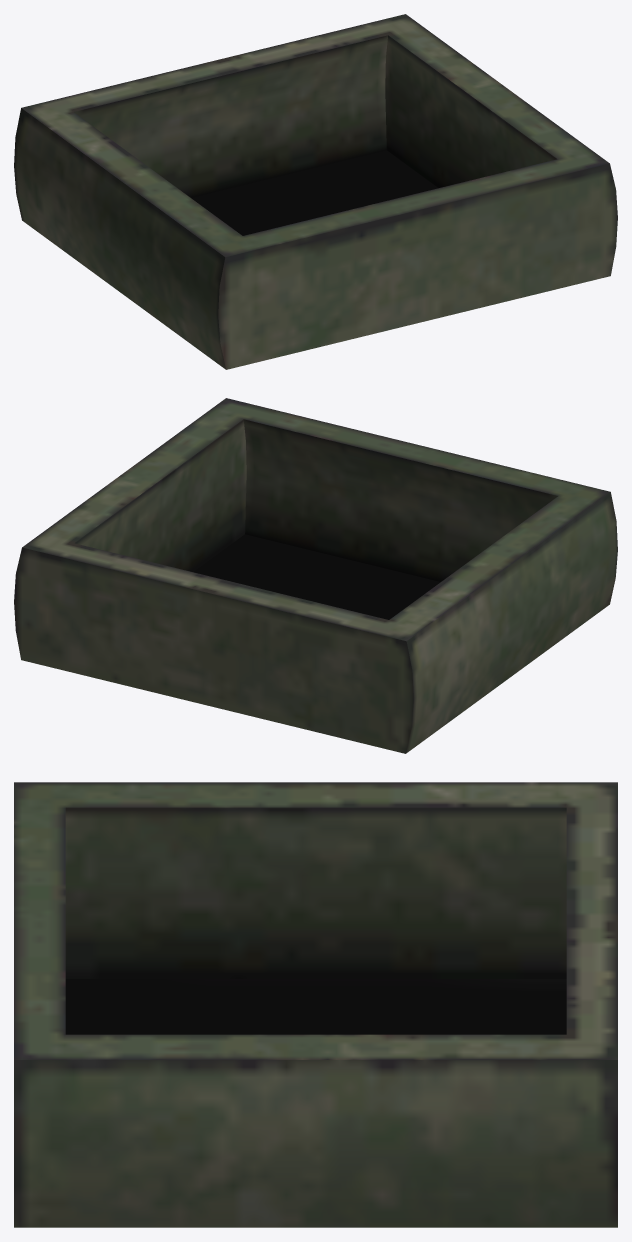
The model's file is Turret_01.glb.
3 views of the same model, one above another, from view 1: azimuth 30°, elevation 25°; view 2: azimuth 150°, elevation 25°; view 3: azimuth 270°, elevation 25° (orthographic). The views are drawn at different scales.
Visible parts, largest first — view 1: set_0_group_0; view 2: set_0_group_0; view 3: set_0_group_0.
Boxes of the visible parts, <box> form: set_0_group_0: <box>14,14,617,369</box>; set_0_group_0: <box>14,398,617,753</box>; set_0_group_0: <box>14,782,617,1227</box>.
Bounding box in the file's own units: 0.723 × 0.2003 × 0.6395.
Materials: 1 (1 with a texture image).
